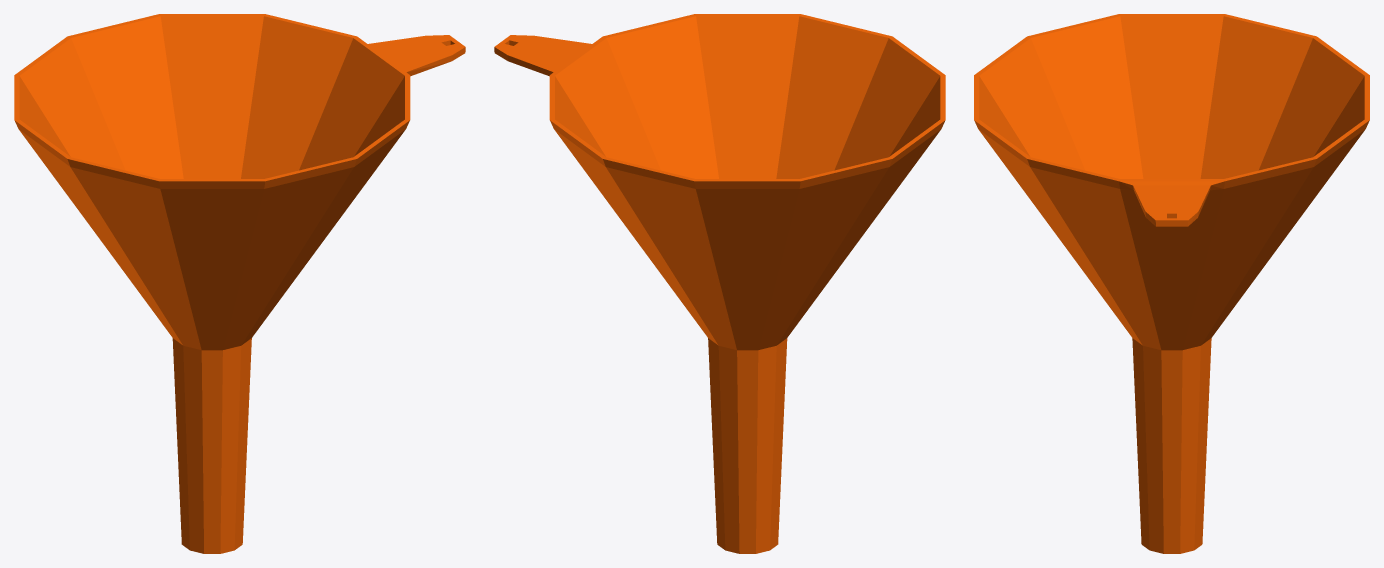
File: 6f18d6e9-0f60-417b-aaa2-8abef58d4cdd.glb
The picture shows the model from 3 angles, left to right: view 1: azimuth 30°, elevation 25°; view 2: azimuth 150°, elevation 25°; view 3: azimuth 270°, elevation 25°; orthographic projection.
Parts seen in each view (by area): view 1: Node; view 2: Node; view 3: Node.
Part boxes in pixels (box(x1,y1,x2,y2)): Node: box(14, 14, 465, 553); Node: box(494, 14, 945, 553); Node: box(974, 14, 1369, 553).
Bounding box in the file's own units: 2.41 × 2.45 × 1.98.
